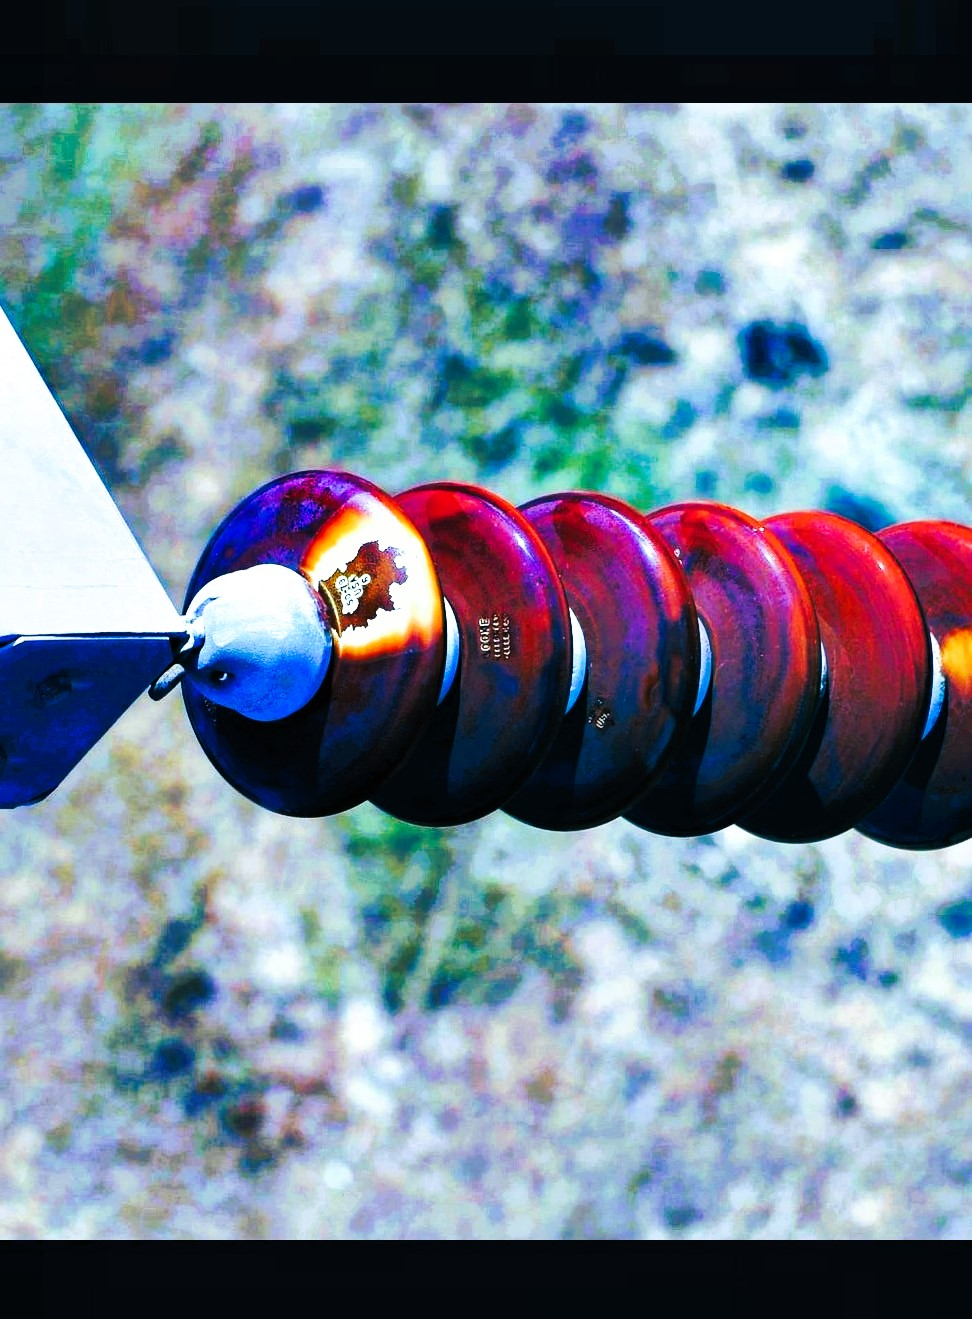Insulator flashover: (169, 446, 449, 831)
